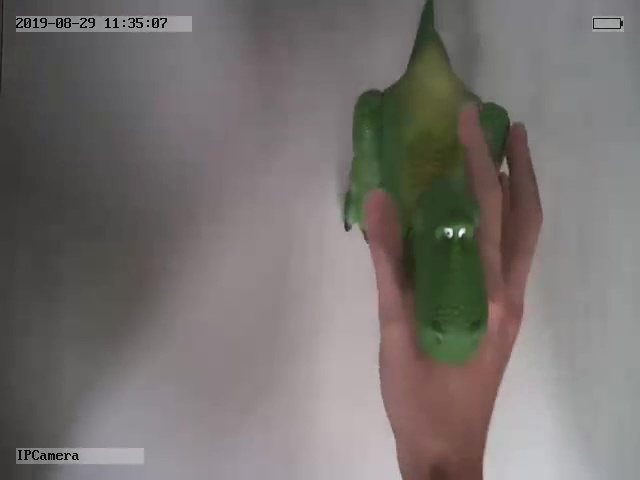rex: (342, 3, 510, 366)
